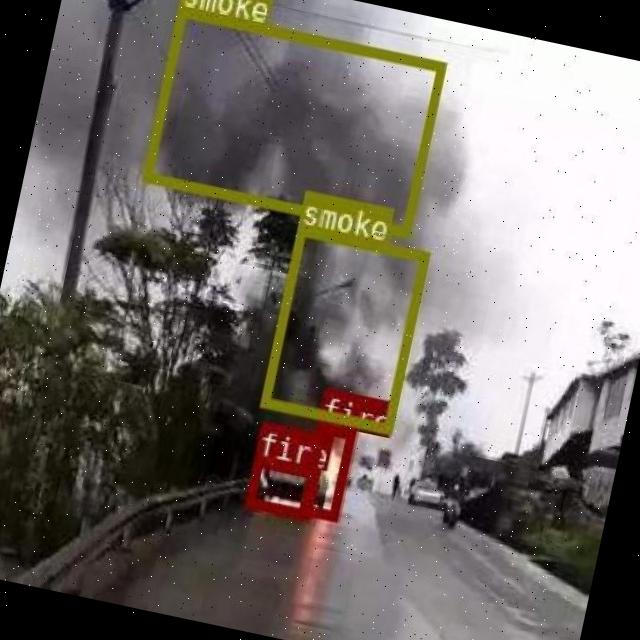smoke: (140, 5, 444, 236), (259, 223, 429, 432)
